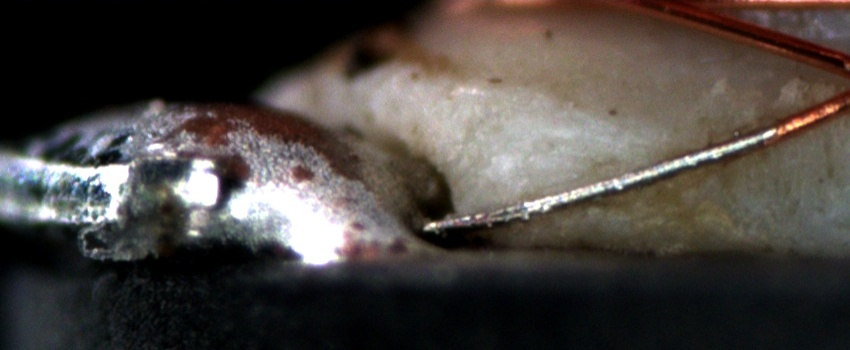CL: (831, 54, 850, 111)
TS: (420, 124, 777, 229)
